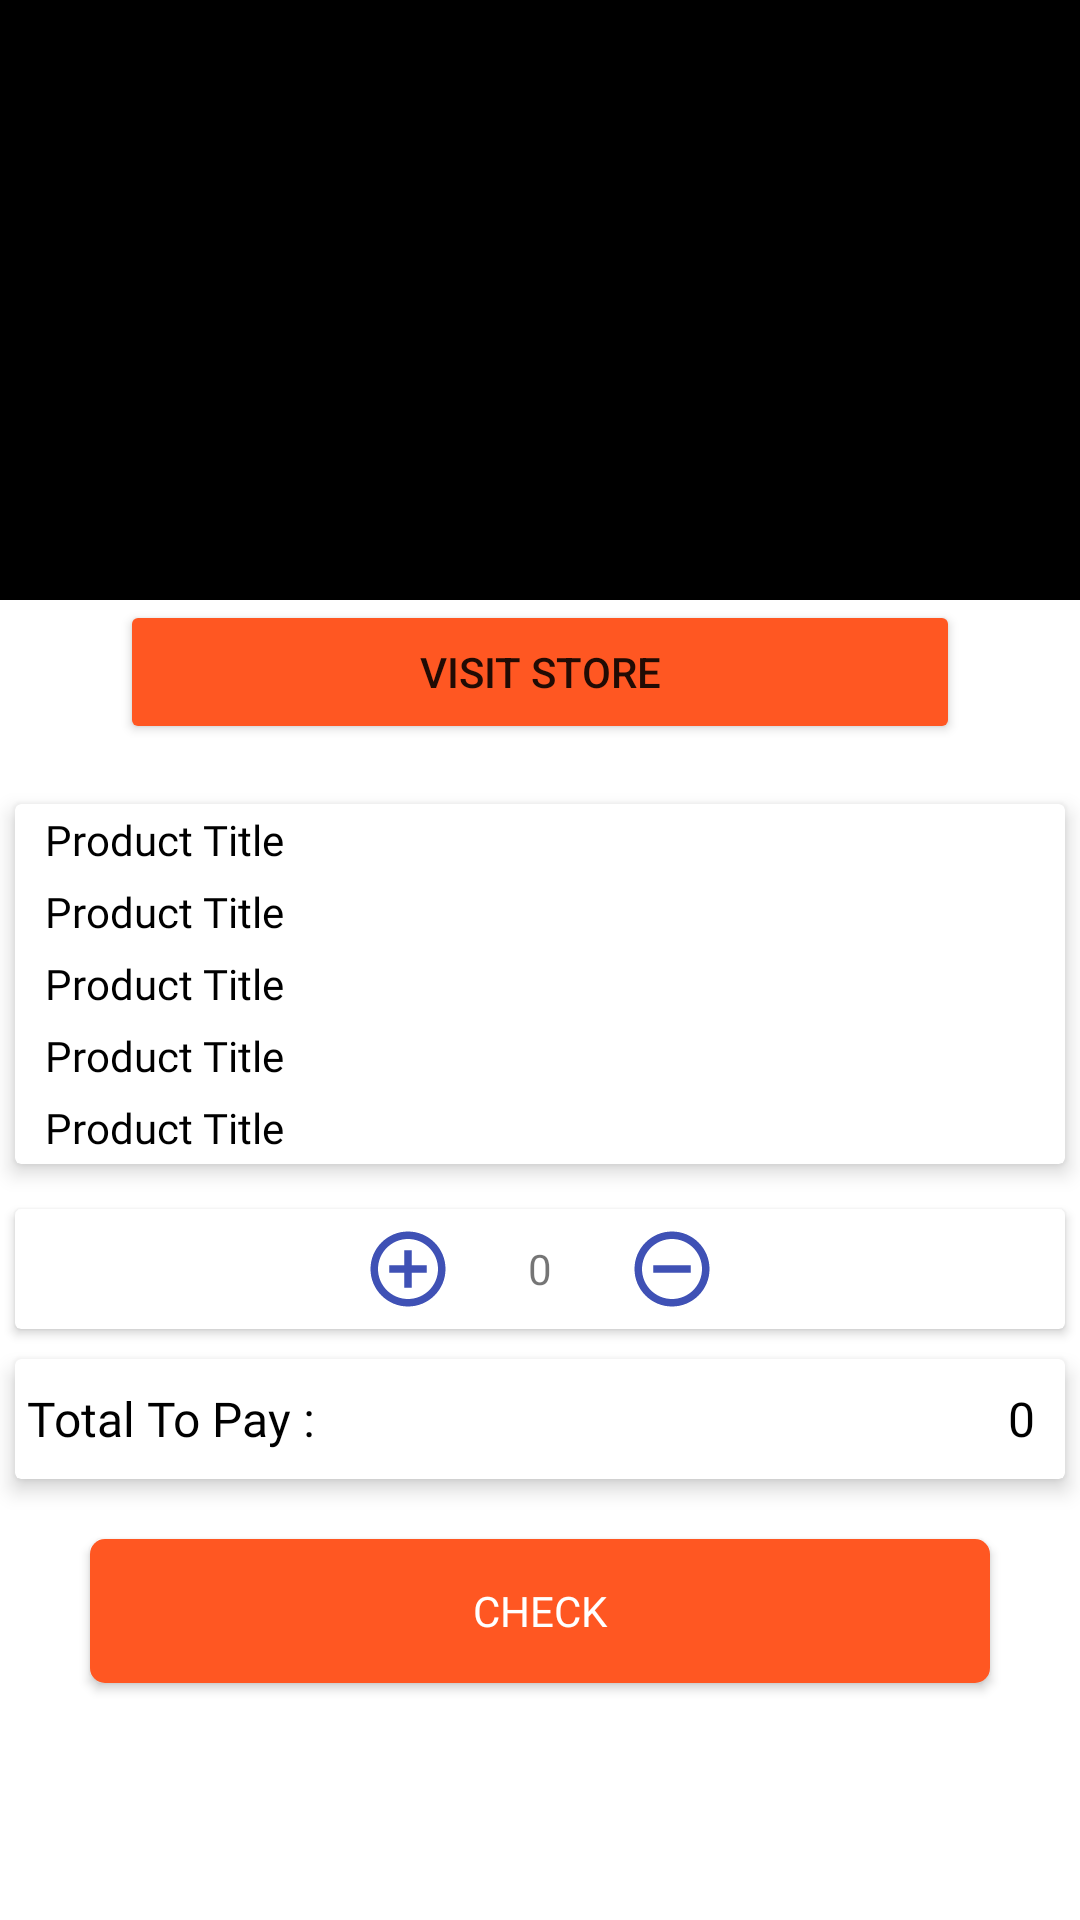

Icon bounding boxes for this 1080 x 1920 phone screenshot, format (x1, y1, x2, y2):
add circle: (370, 1231, 446, 1307)
remove circle: (634, 1231, 710, 1307)
